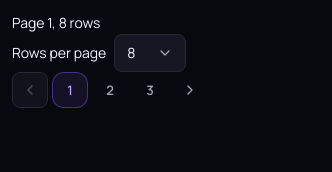
table controls › enforces pagination boundaries and exposes the current page
Expected: the button named "Go to previous page" is disabled, [12,72,48,108]
Click the button named "Go to next page" at (190, 90), box [172,72,208,108]
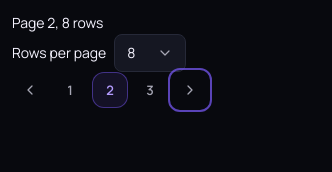
Click the button named "Go to next page" at (190, 90), box [172,72,208,108]
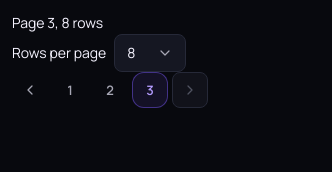
Result: the button named "Go to next page" is disabled at [172,72,208,108]
Result: the text named "Pagination state" reads "Page 3, 8 rows" at [12,13,103,32]
